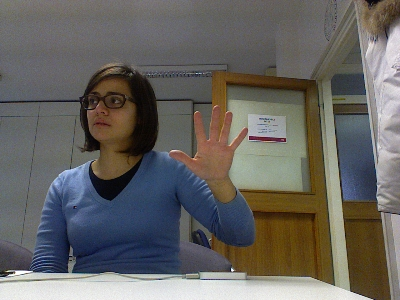布: (167, 104, 248, 181)
